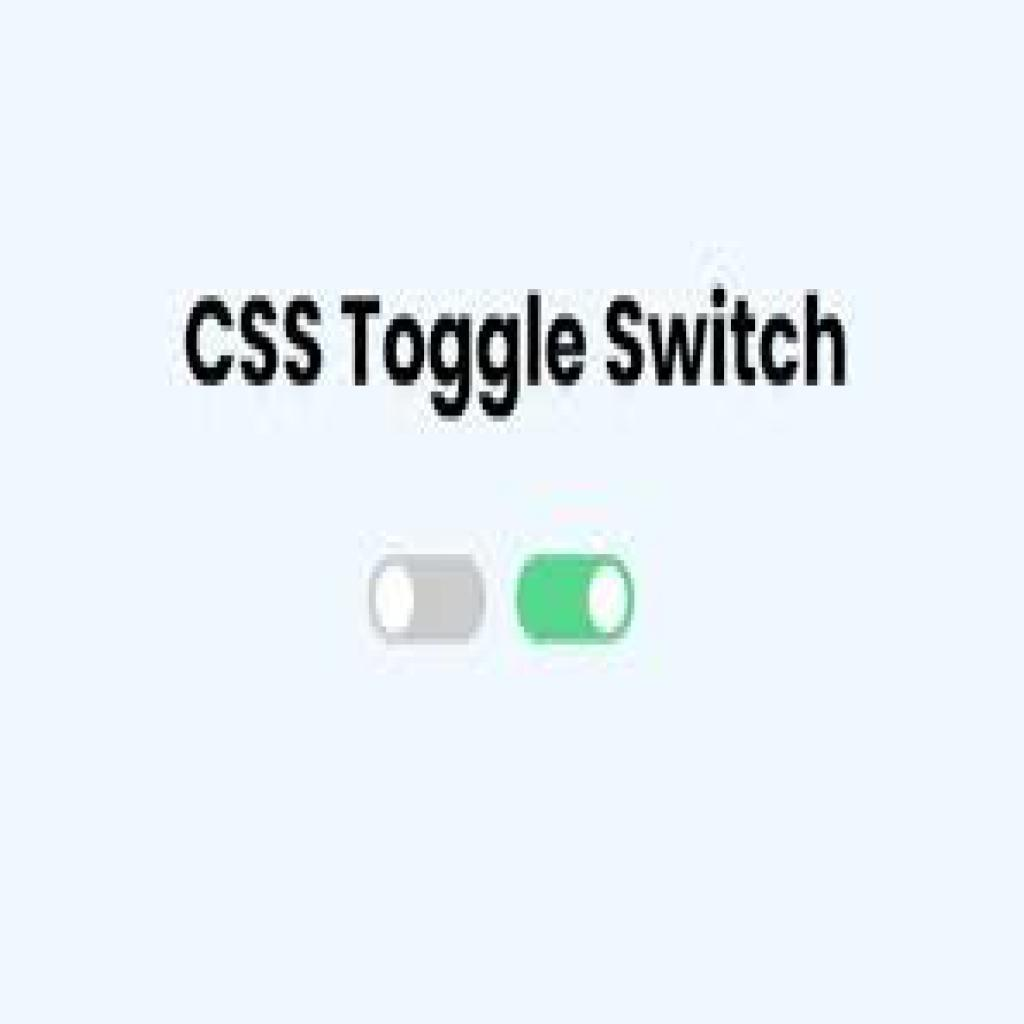switch: (182, 282, 860, 424), (517, 553, 636, 646), (368, 553, 488, 644)
